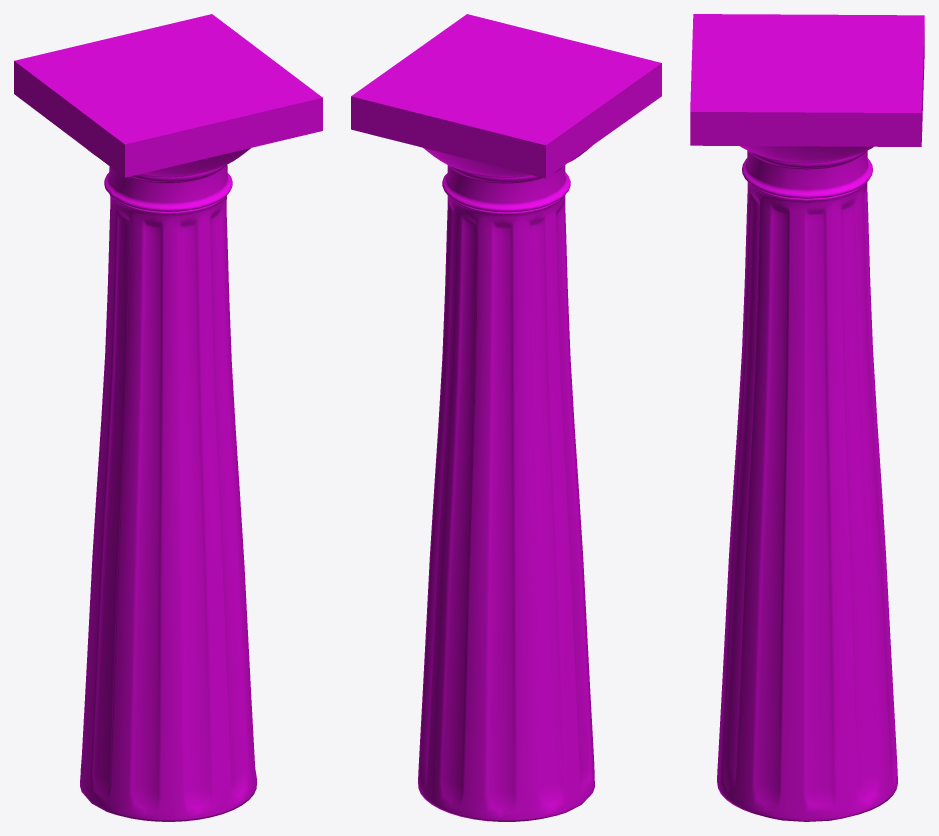
Rendered from Column.fbx.
3 renders of one model, left to right at view 1: azimuth 30°, elevation 25°; view 2: azimuth 150°, elevation 25°; view 3: azimuth 270°, elevation 25°, orthographic. The views are drawn at different scales.
Visible parts, largest first — view 1: polySurface3, polySurface1; view 2: polySurface3, polySurface1; view 3: polySurface3, polySurface1.
Part boxes in pixels (left/top/right/bottom): polySurface3: left=80, top=148, right=256, bottom=821; polySurface1: left=14, top=14, right=322, bottom=177; polySurface3: left=418, top=146, right=594, bottom=821; polySurface1: left=351, top=14, right=661, bottom=178; polySurface3: left=717, top=146, right=897, bottom=821; polySurface1: left=690, top=14, right=924, bottom=146.
Size of the model in its own units: 342 by 1161 by 342.
